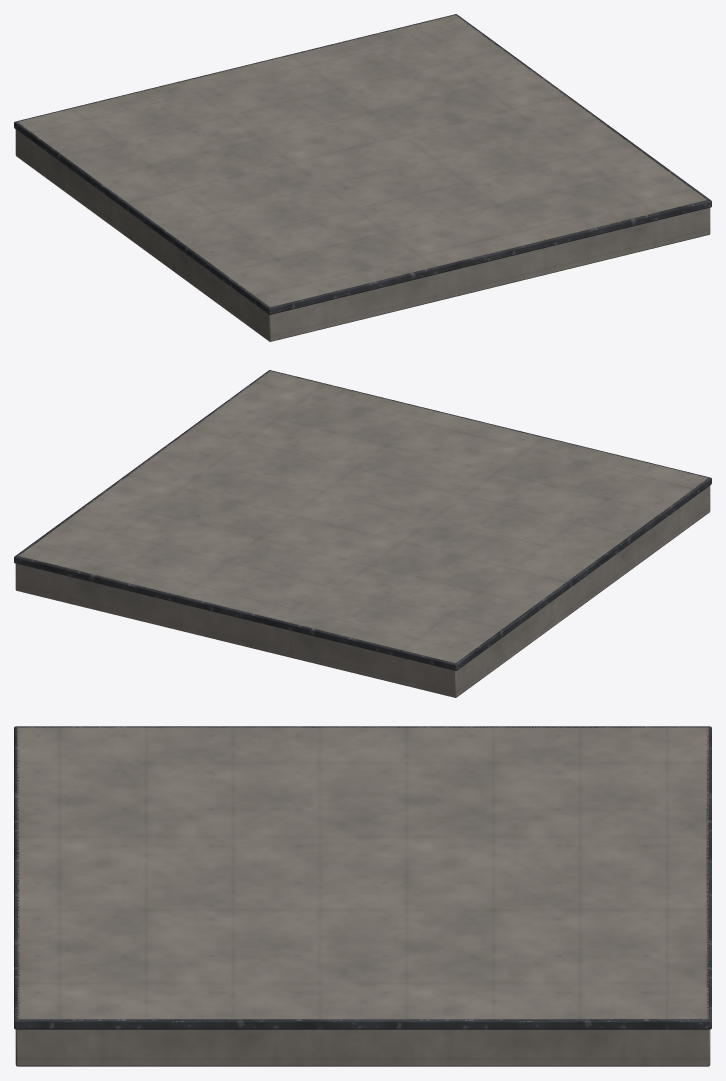
File: BLD_Foundation_4x4.glb
3 renders of one model, top to bottom at view 1: azimuth 30°, elevation 25°; view 2: azimuth 150°, elevation 25°; view 3: azimuth 270°, elevation 25°, orthographic. The views are drawn at different scales.
Parts seen in each view (by area): view 1: BLD_Foundation_4x4_Mesh; view 2: BLD_Foundation_4x4_Mesh; view 3: BLD_Foundation_4x4_Mesh.
Part boxes in pixels (x1=…): BLD_Foundation_4x4_Mesh: x1=14, y1=14, x2=711, y2=341; BLD_Foundation_4x4_Mesh: x1=14, y1=370, x2=711, y2=697; BLD_Foundation_4x4_Mesh: x1=14, y1=726, x2=711, y2=1066.
Bounding box in the file's own units: 4.02 × 0.3 × 4.02.
2 materials, 2 textured.
